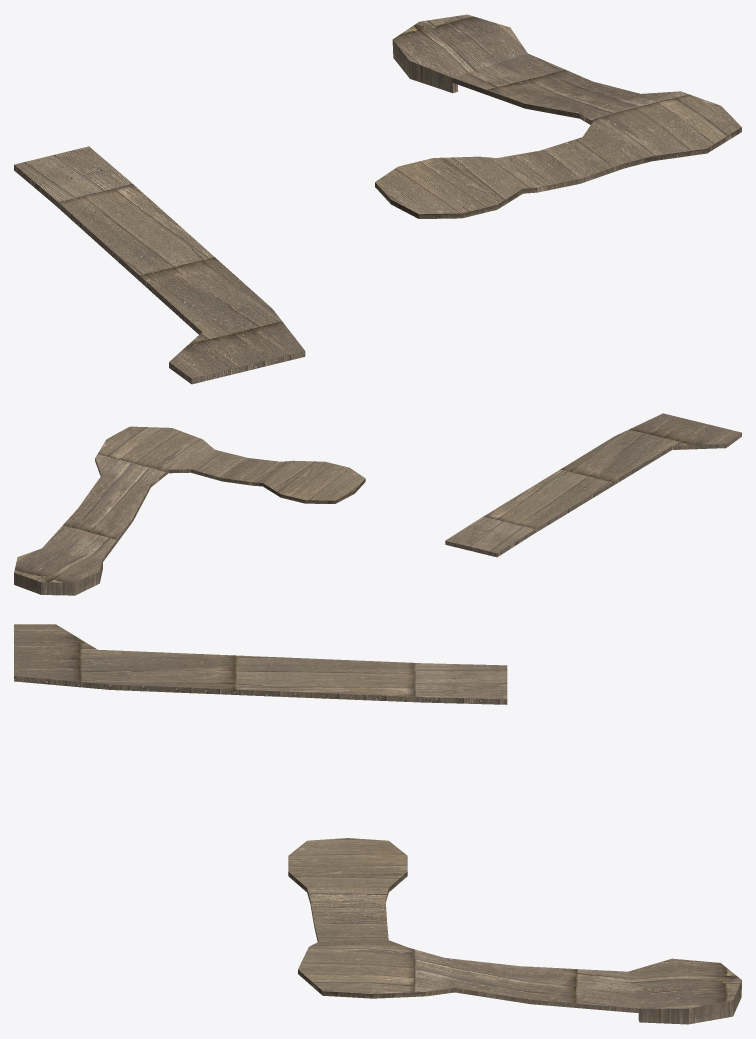
File: SM_Chateaux_05_06.fbx
3 views of the same model, one above another, from view 1: azimuth 30°, elevation 25°; view 2: azimuth 150°, elevation 25°; view 3: azimuth 270°, elevation 25° (orthographic). The views are drawn at different scales.
Parts seen in each view (by area): view 1: SM_Chateaux_05_06; view 2: SM_Chateaux_05_06; view 3: SM_Chateaux_05_06.
Part boxes in pixels (box(x1,y1,x2,y2)): SM_Chateaux_05_06: box(14, 14, 741, 384); SM_Chateaux_05_06: box(14, 413, 741, 595); SM_Chateaux_05_06: box(14, 624, 741, 1024).
Bounding box in the file's own units: 3027 × 401 × 2838.
